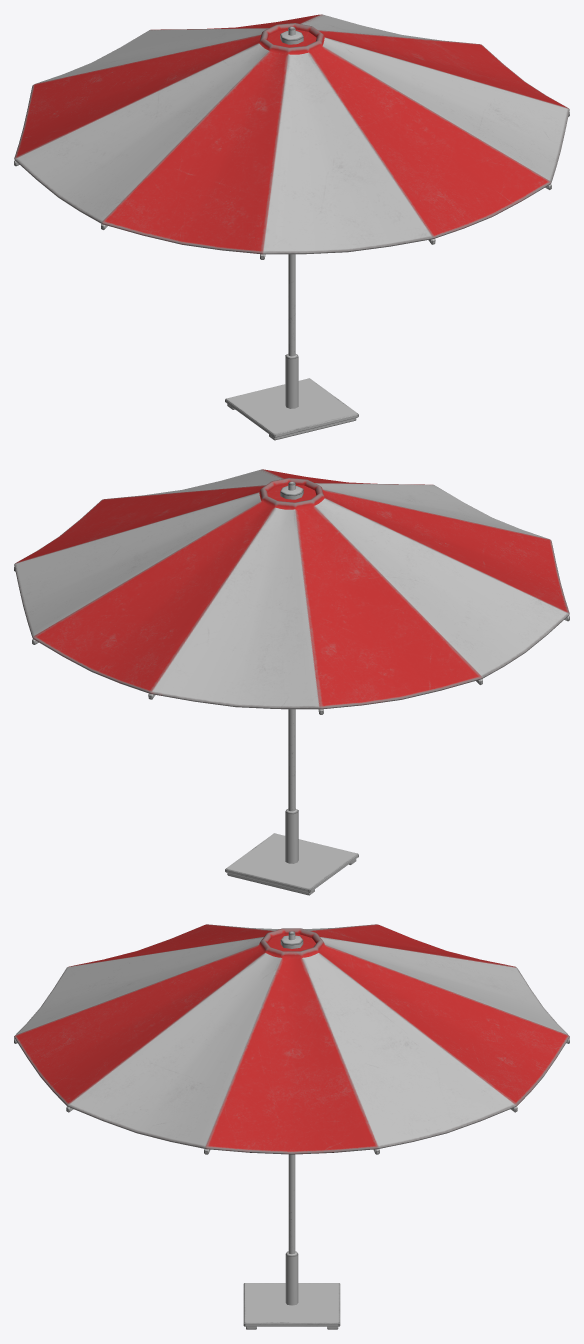
File: SM_Shade2.fbx
The picture shows the model from 3 angles, top to bottom: view 1: azimuth 30°, elevation 25°; view 2: azimuth 150°, elevation 25°; view 3: azimuth 270°, elevation 25°; orthographic projection. The views are drawn at different scales.
Parts seen in each view (by area): view 1: SM_Shade2_LOD0; view 2: SM_Shade2_LOD0; view 3: SM_Shade2_LOD0.
Part boxes in pixels (x1=…): SM_Shade2_LOD0: x1=14, y1=14, x2=569, y2=440; SM_Shade2_LOD0: x1=14, y1=469, x2=569, y2=895; SM_Shade2_LOD0: x1=14, y1=924, x2=569, y2=1329.
Size of the model in its own units: 466 by 489 by 367.
1 material, 1 textured.
